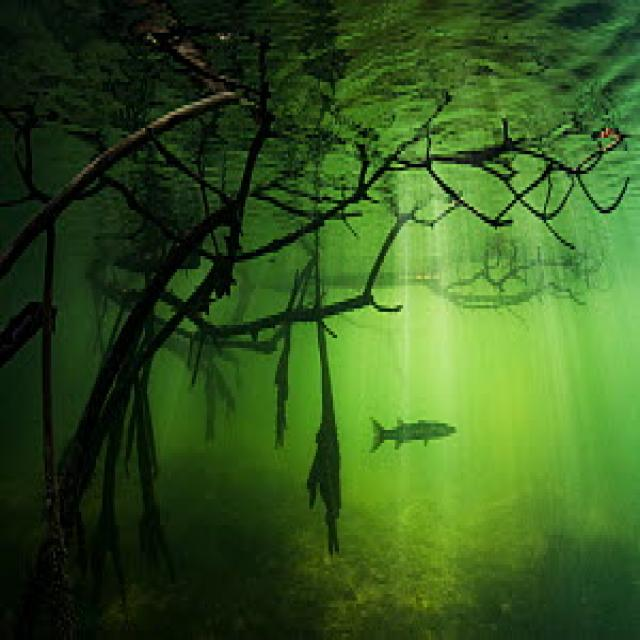Barracuda: (367, 410, 459, 453)
